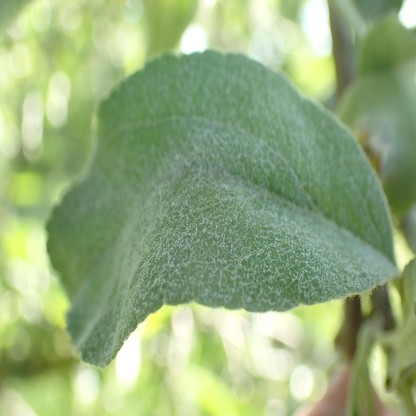powdery_mildew: (63, 49, 401, 368)
